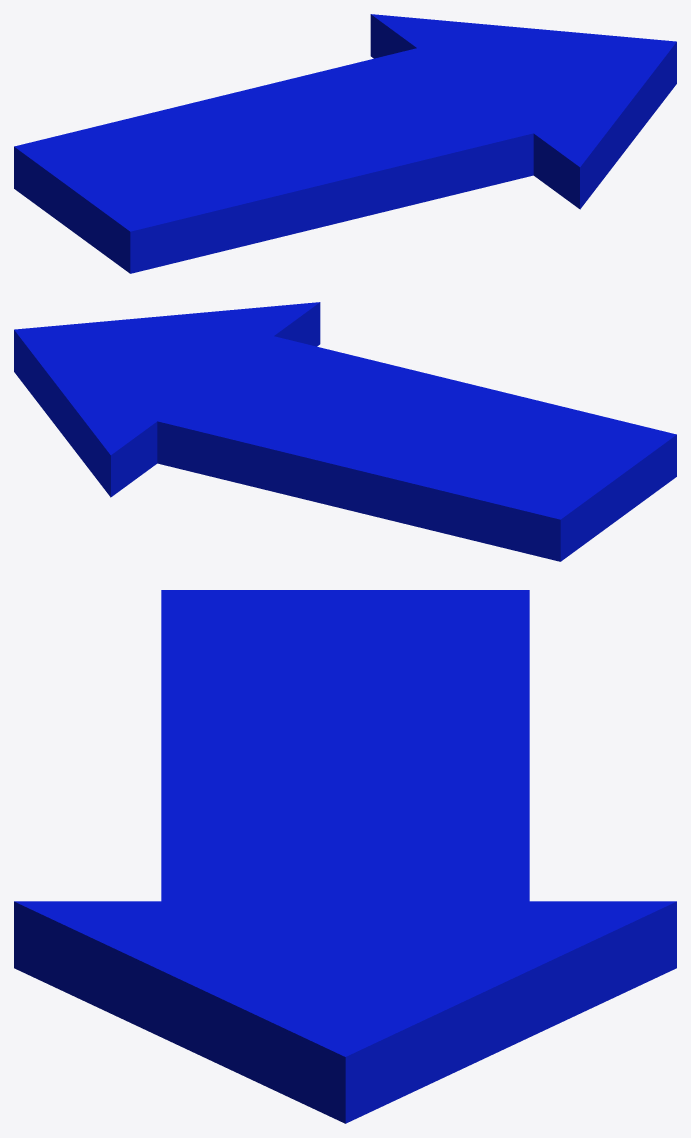
The model's file is marker_direction.glb.
3 renders of one model, top to bottom at view 1: azimuth 30°, elevation 25°; view 2: azimuth 150°, elevation 25°; view 3: azimuth 270°, elevation 25°, orthographic. The views are drawn at different scales.
Parts seen in each view (by area): view 1: Cube; view 2: Cube; view 3: Cube.
Part boxes in pixels (box(x1,y1,x2,y2)): Cube: box(14, 14, 676, 273); Cube: box(14, 302, 676, 561); Cube: box(14, 590, 676, 1123).
Bounding box in the file's own units: 6 × 0.4 × 3.6.
